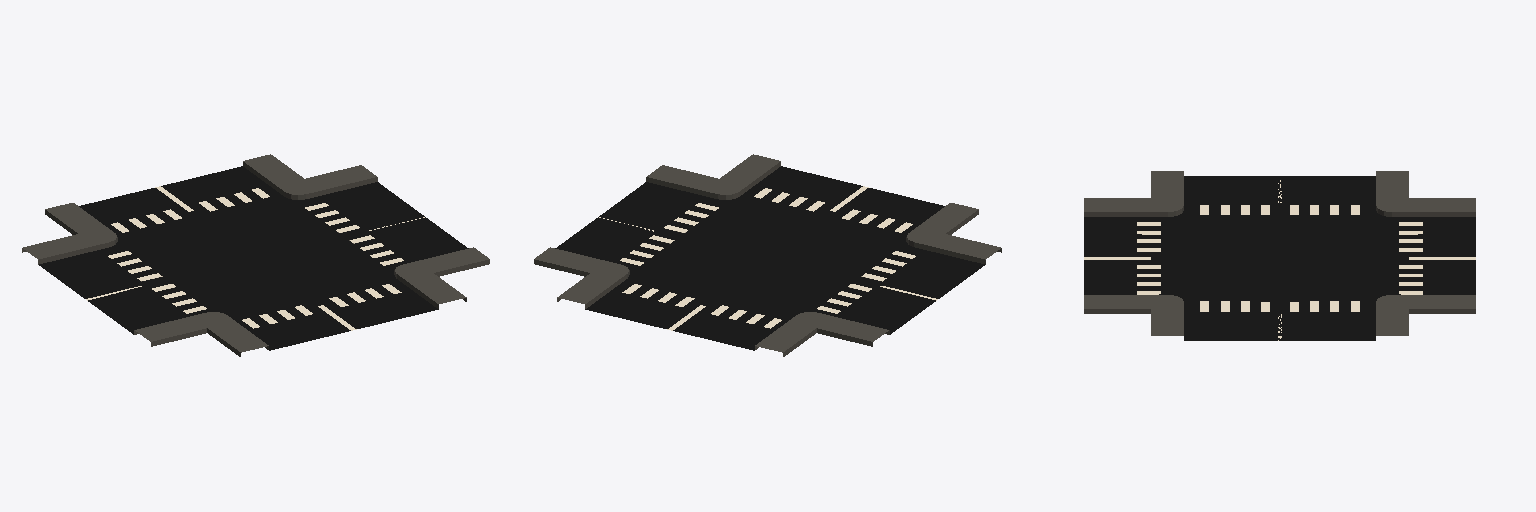
File: SuperRoad.obj
The picture shows the model from 3 angles: view 1: azimuth 30°, elevation 25°; view 2: azimuth 150°, elevation 25°; view 3: azimuth 270°, elevation 25°; orthographic projection.
Parts seen in each view (by area): view 1: Plane; view 2: Plane; view 3: Plane.
Part boxes in pixels (x1,y1,x2,y2): Plane: (22, 154, 489, 356); Plane: (534, 154, 1001, 356); Plane: (1084, 171, 1475, 340).
Bounding box in the file's own units: 9.25 × 0.1319 × 9.25.